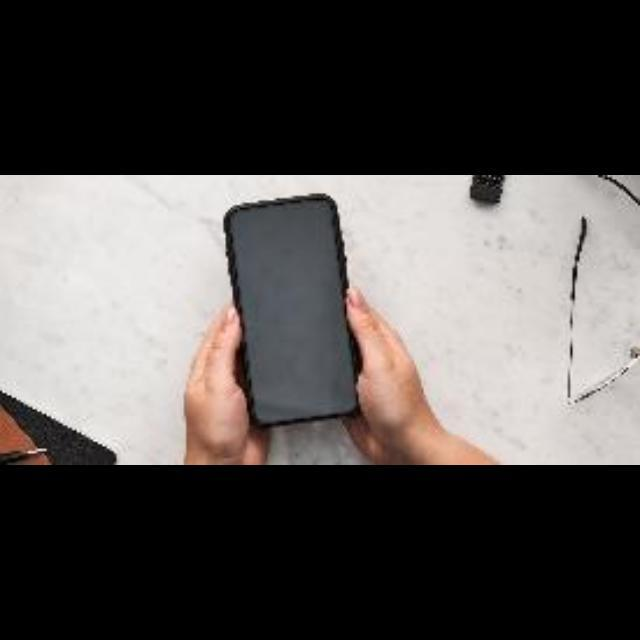Phone: (216, 196, 390, 438)
